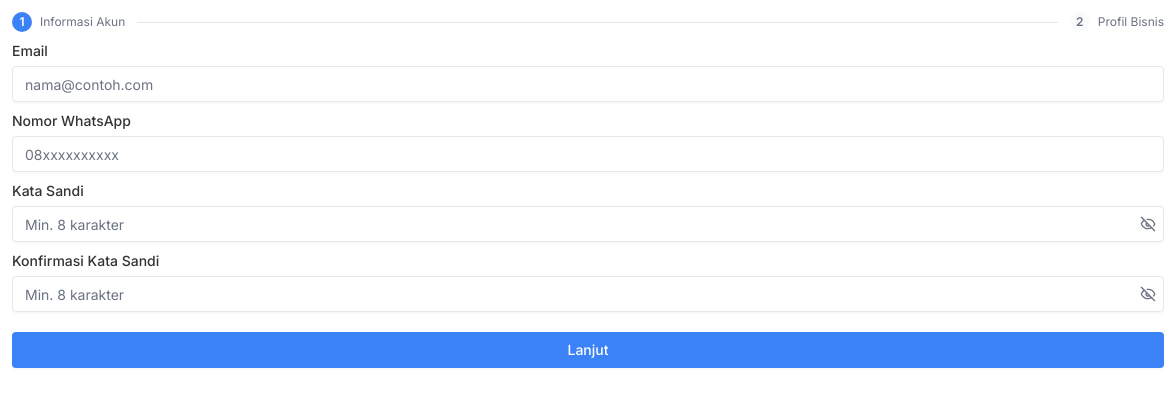
Scenario: SignUpForm › Step 2 — Profil Bisnis (dropdown wilayah) › renders the Provinsi and Kota/Kabupaten dropdowns, Kota disabled until a province is chosen
Type "sari@contoh.com" into the field labelled "Email" at (588, 84), box x1=12 y1=66 x2=1164 y2=102
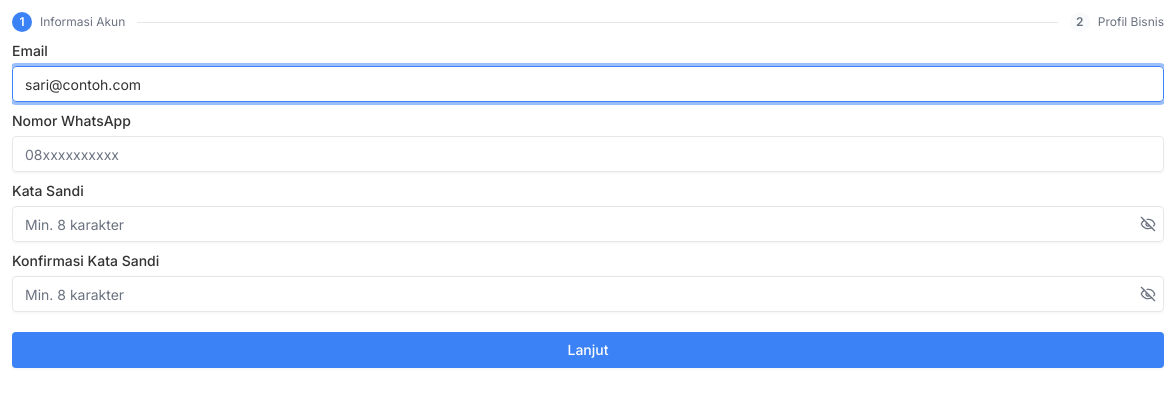
Type "081234567890" into the field labelled "Nomor WhatsApp" at (588, 154), box x1=12 y1=136 x2=1164 y2=172
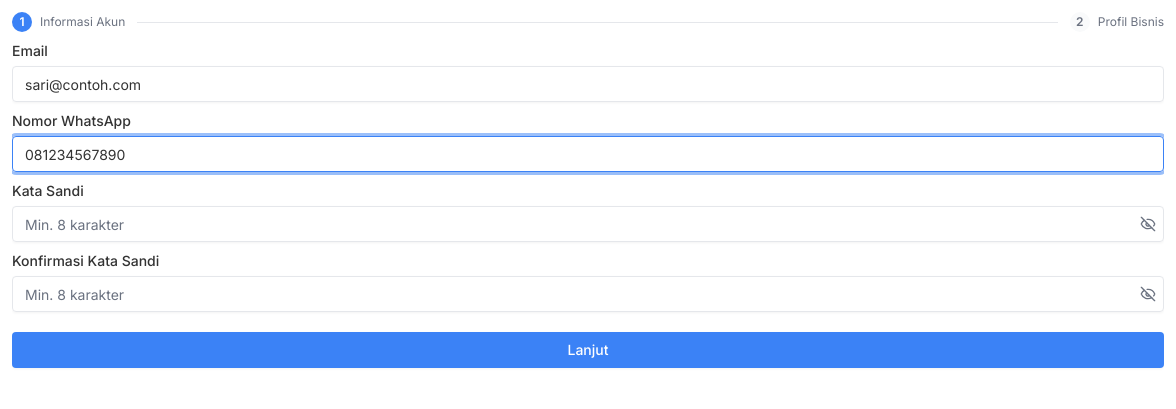
Type "12345678" into the password field labelled "Kata Sandi" at (588, 224), box x1=12 y1=206 x2=1164 y2=242
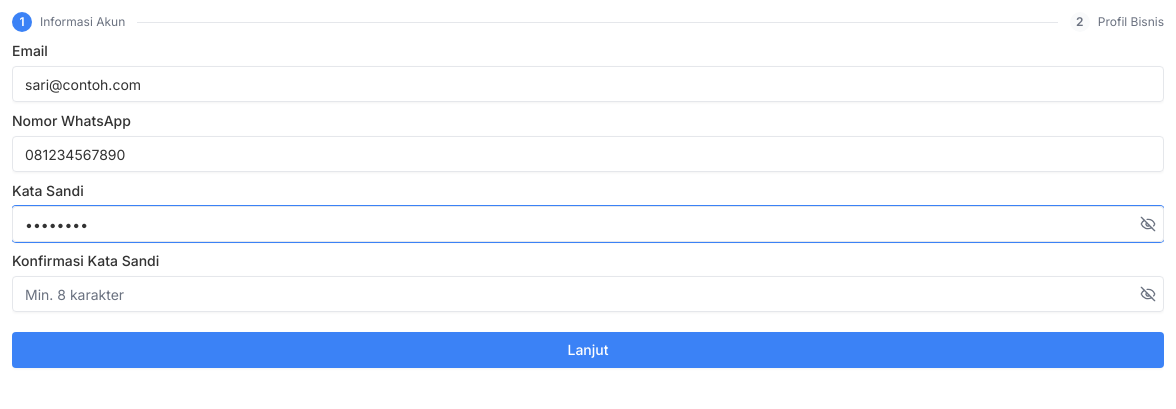
Type "12345678" into the password field labelled "Konfirmasi Kata Sandi" at (588, 294), box x1=12 y1=276 x2=1164 y2=312
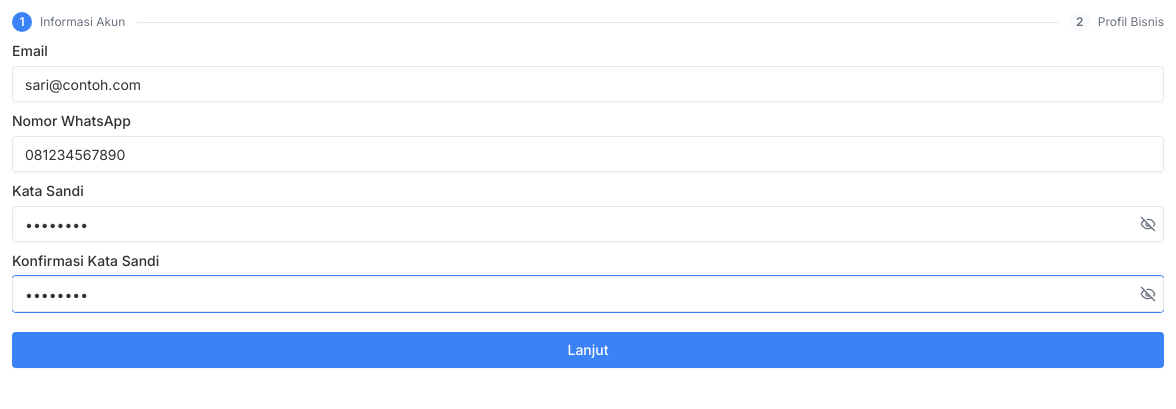
Click the button "Lanjut" at (588, 350), box x1=12 y1=332 x2=1164 y2=368
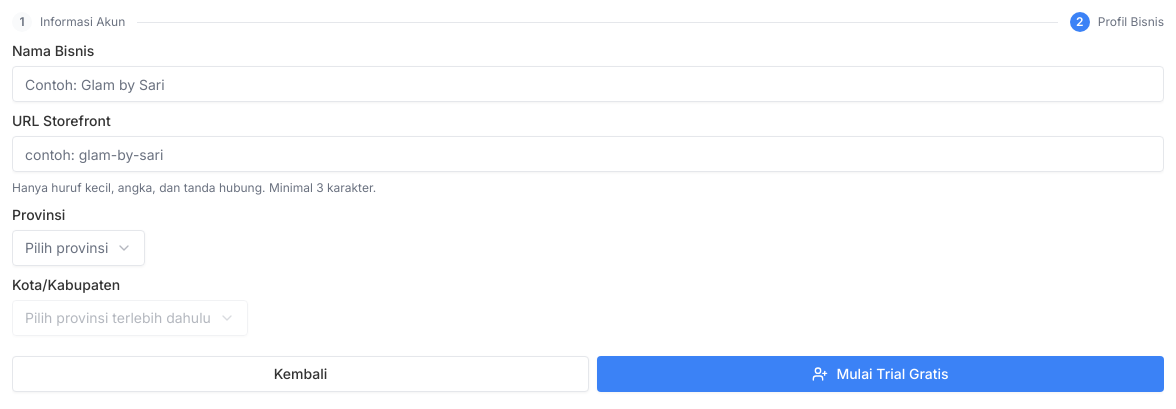
Result: the dropdown labelled "Pilih provinsi" is shown at x1=12 y1=230 x2=145 y2=266
Result: the dropdown named "Kota/Kabupaten" is disabled at x1=12 y1=300 x2=248 y2=336
